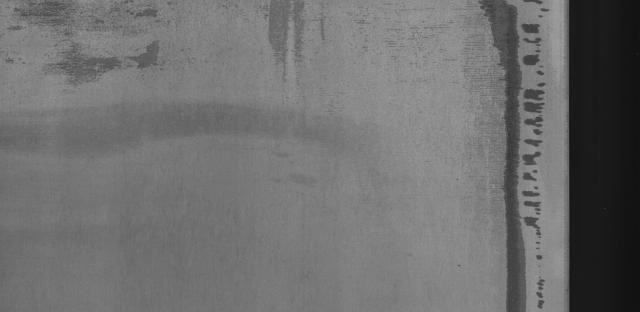oil_spot: (474, 1, 548, 306), (0, 4, 169, 93), (230, 0, 334, 78)
